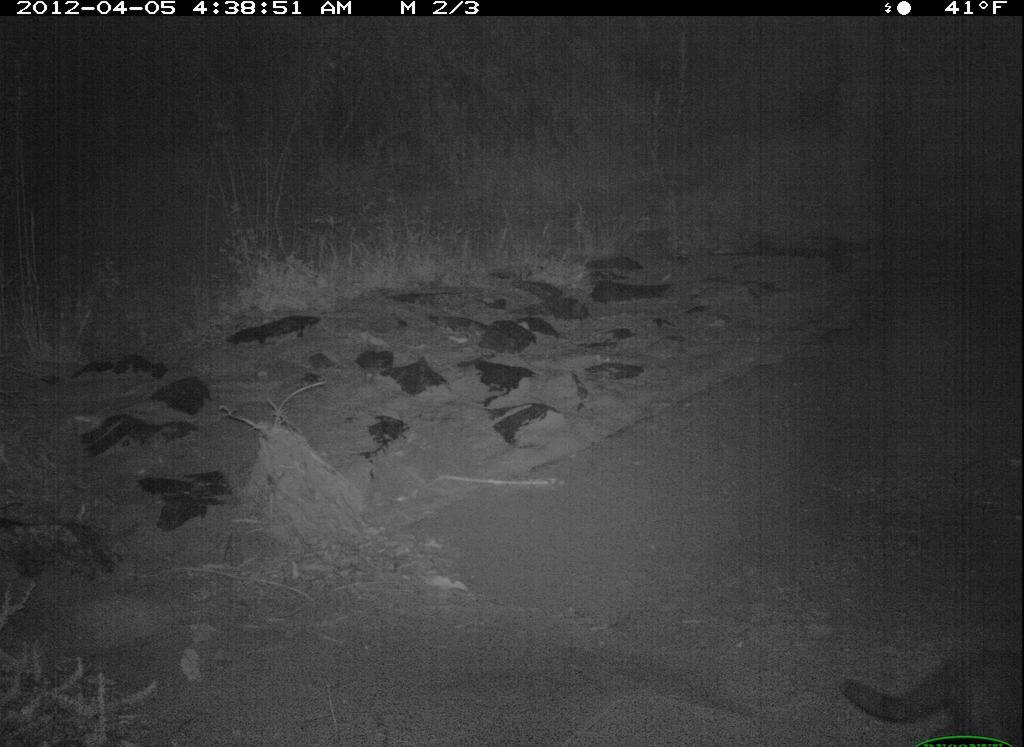cat: (829, 620, 1023, 745)
